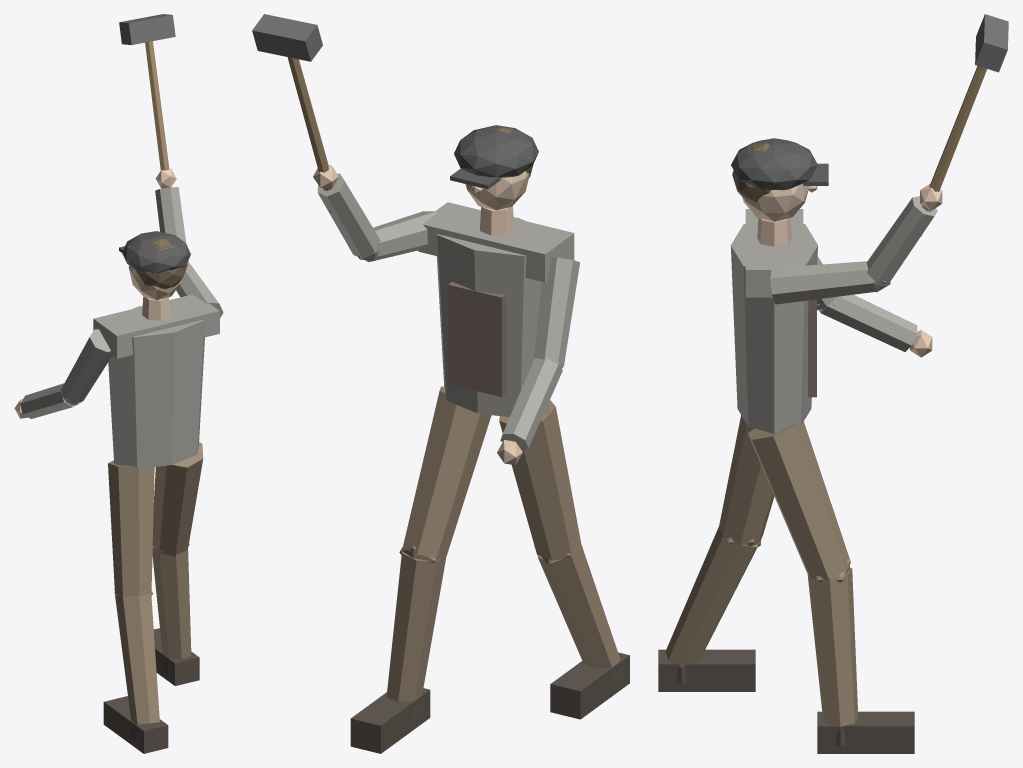
Rendered from townsman_hammer.glb.
3 renders of one model, left to right at view 1: azimuth 30°, elevation 25°; view 2: azimuth 150°, elevation 25°; view 3: azimuth 270°, elevation 25°, orthographic. The views are drawn at different scales.
Parts seen in each view (by area): view 1: tweed_grey, tweed_brown, boot, wool_black, skin, iron, wood, hair; view 2: tweed_brown, tweed_grey, boot, waistcoat, wool_black, skin, iron, wood; view 3: tweed_brown, tweed_grey, boot, wool_black, skin, iron, wood, waistcoat, hair.
Part boxes in pixels (x1,y1,x2,y2): tweed_grey: (20,187,223,468); tweed_brown: (108,442,203,724); boot: (103,628,199,753); wool_black: (119,231,190,273); skin: (14,168,181,418); iron: (119,14,175,45); wood: (145,41,171,188); hair: (136,238,187,288); tweed_brown: (386,386,620,701); tweed_grey: (317,173,579,450); boot: (350,652,629,753); waistcoat: (448,281,506,396); wool_black: (450,125,538,189); skin: (313,165,529,465); iron: (252,14,322,61); wood: (287,57,333,212); tweed_brown: (665,415,858,727); tweed_grey: (730,196,937,433); boot: (658,649,914,753); wool_black: (731,138,828,190); skin: (742,183,942,357); iron: (975,14,1008,72); wood: (921,66,986,236); waistcoat: (808,299,816,397); hair: (732,142,771,202).
Bounding box in the file's own units: 0.7097 × 2.26 × 0.9708.
